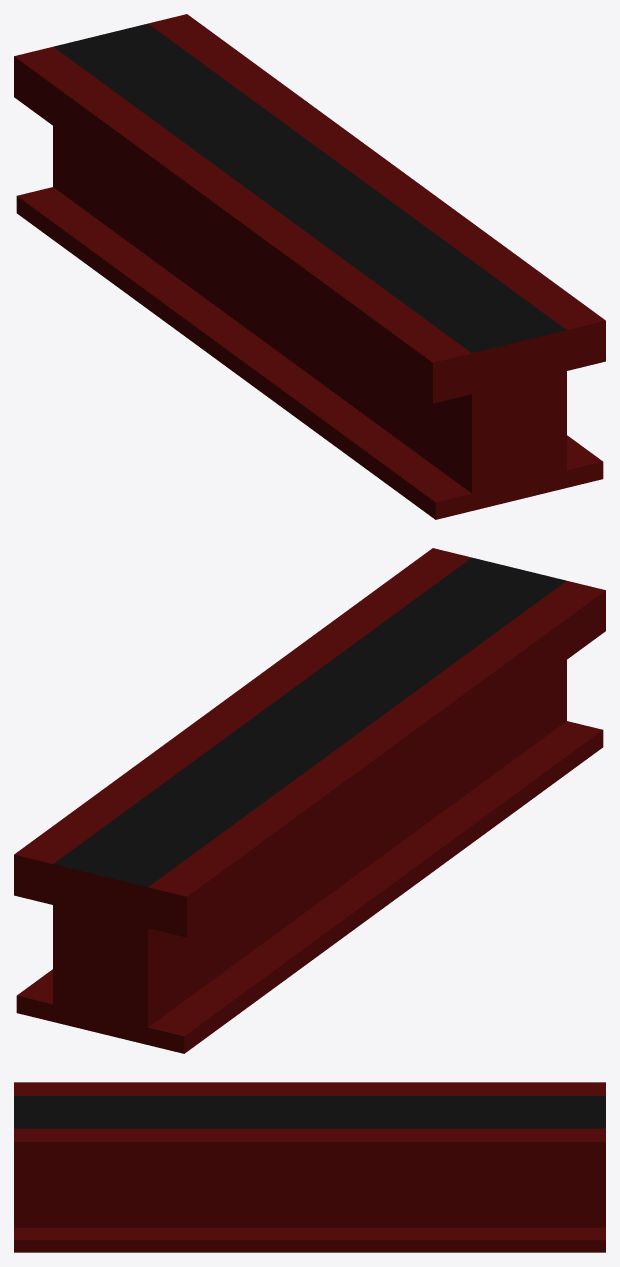
The model's file is raptor_lift.obj.
3 renders of one model, top to bottom at view 1: azimuth 30°, elevation 25°; view 2: azimuth 150°, elevation 25°; view 3: azimuth 270°, elevation 25°, orthographic. The views are drawn at different scales.
Bounding box in the file's own units: 0.3937 × 0.3429 × 1.65.
